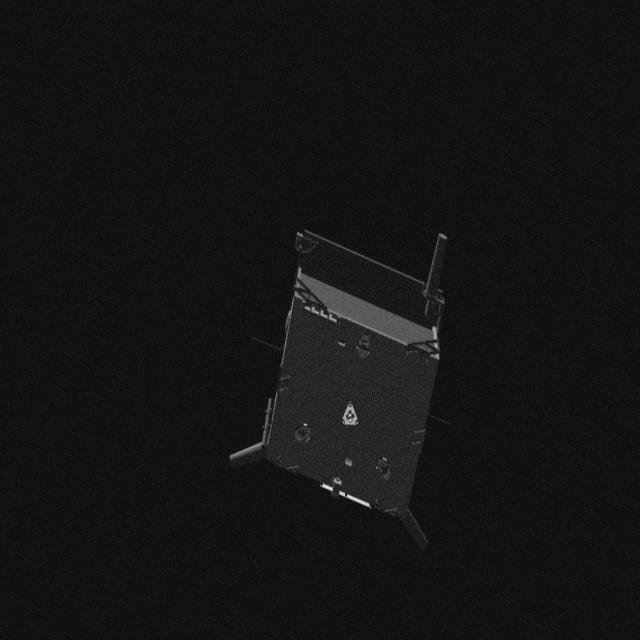medium_debris: (230, 212, 468, 558)
